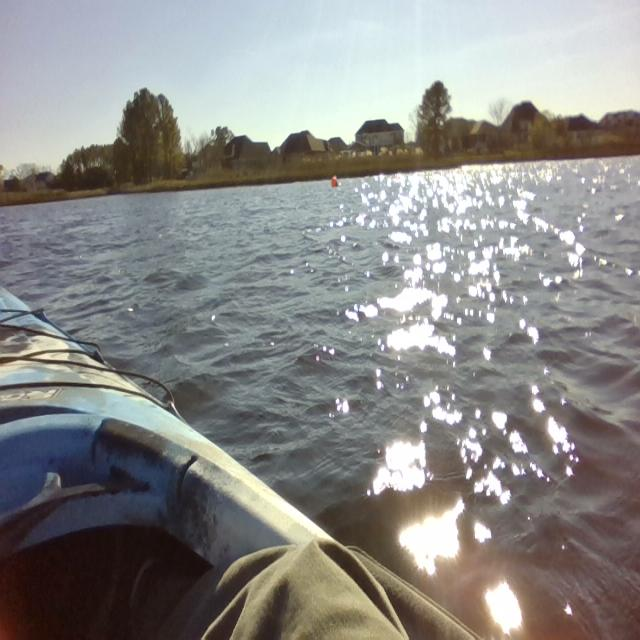Buoy: (327, 173, 343, 192)
